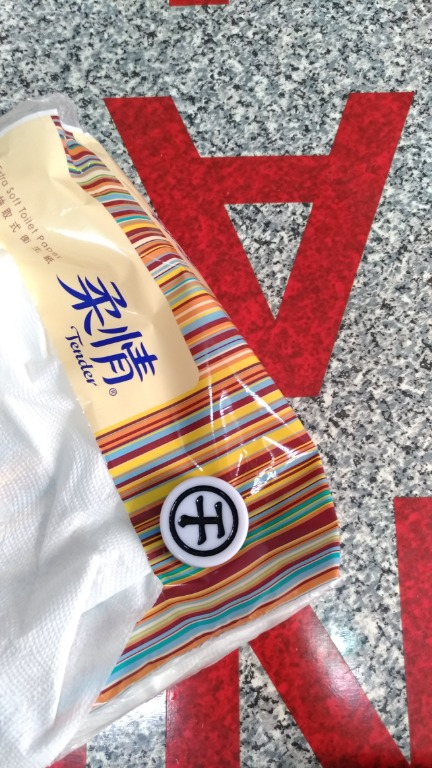b-advisor: (145, 461, 280, 586)
